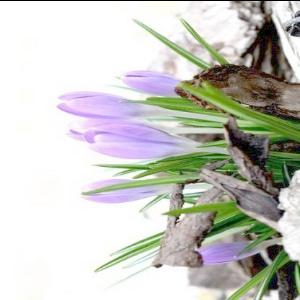Saffron: (84, 123, 212, 160), (179, 232, 274, 272), (78, 176, 183, 206), (58, 94, 170, 120), (121, 65, 185, 89)
